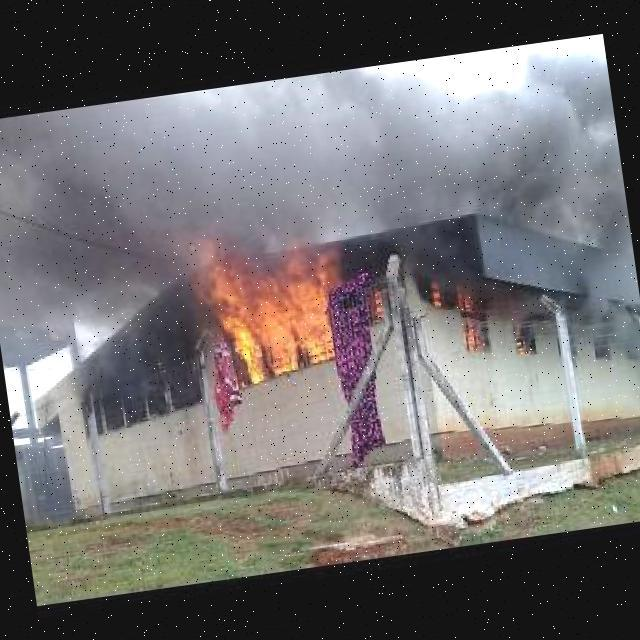Fire: (182, 217, 355, 399)
Smoke: (0, 64, 405, 329), (375, 38, 640, 367)
